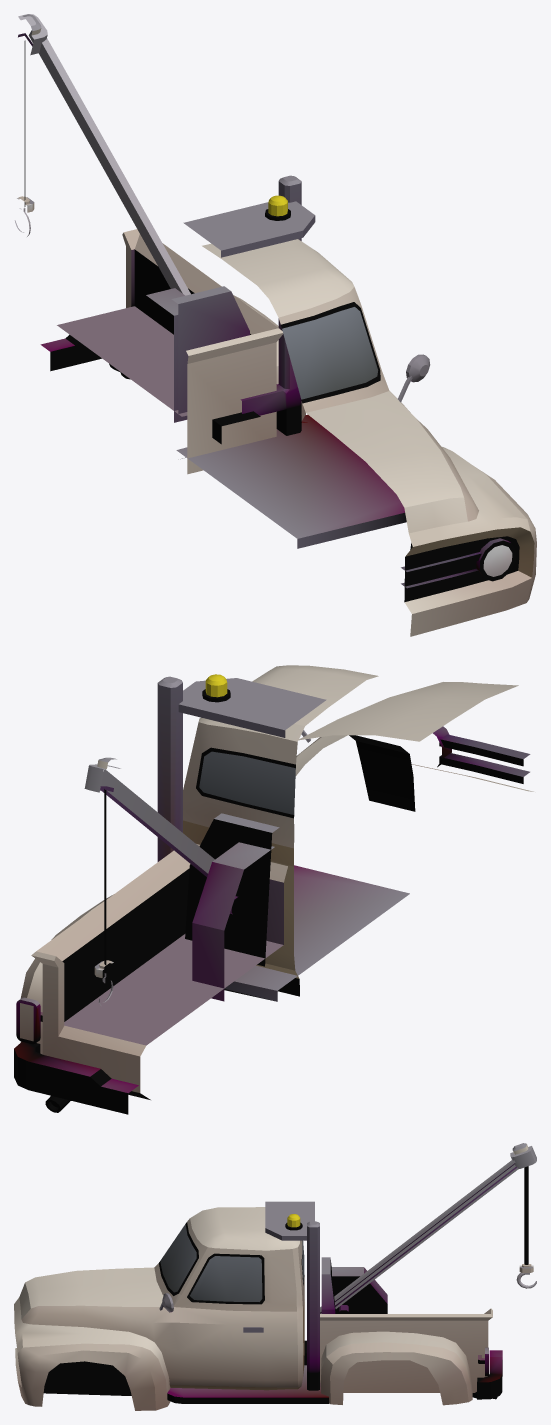
The model's file is car7.glb.
The picture shows the model from 3 angles, top to bottom: view 1: azimuth 30°, elevation 25°; view 2: azimuth 150°, elevation 25°; view 3: azimuth 270°, elevation 25°; orthographic projection. The views are drawn at different scales.
Visible parts, largest first — view 1: car7; view 2: car7; view 3: car7.
Part boxes in pixels (box(x1,y1,x2,y2)): car7: box(14, 14, 536, 636); car7: box(14, 665, 533, 1114); car7: box(14, 1143, 536, 1410).
Size of the model in its own units: 0.245 by 0.5925 by 1.21.
